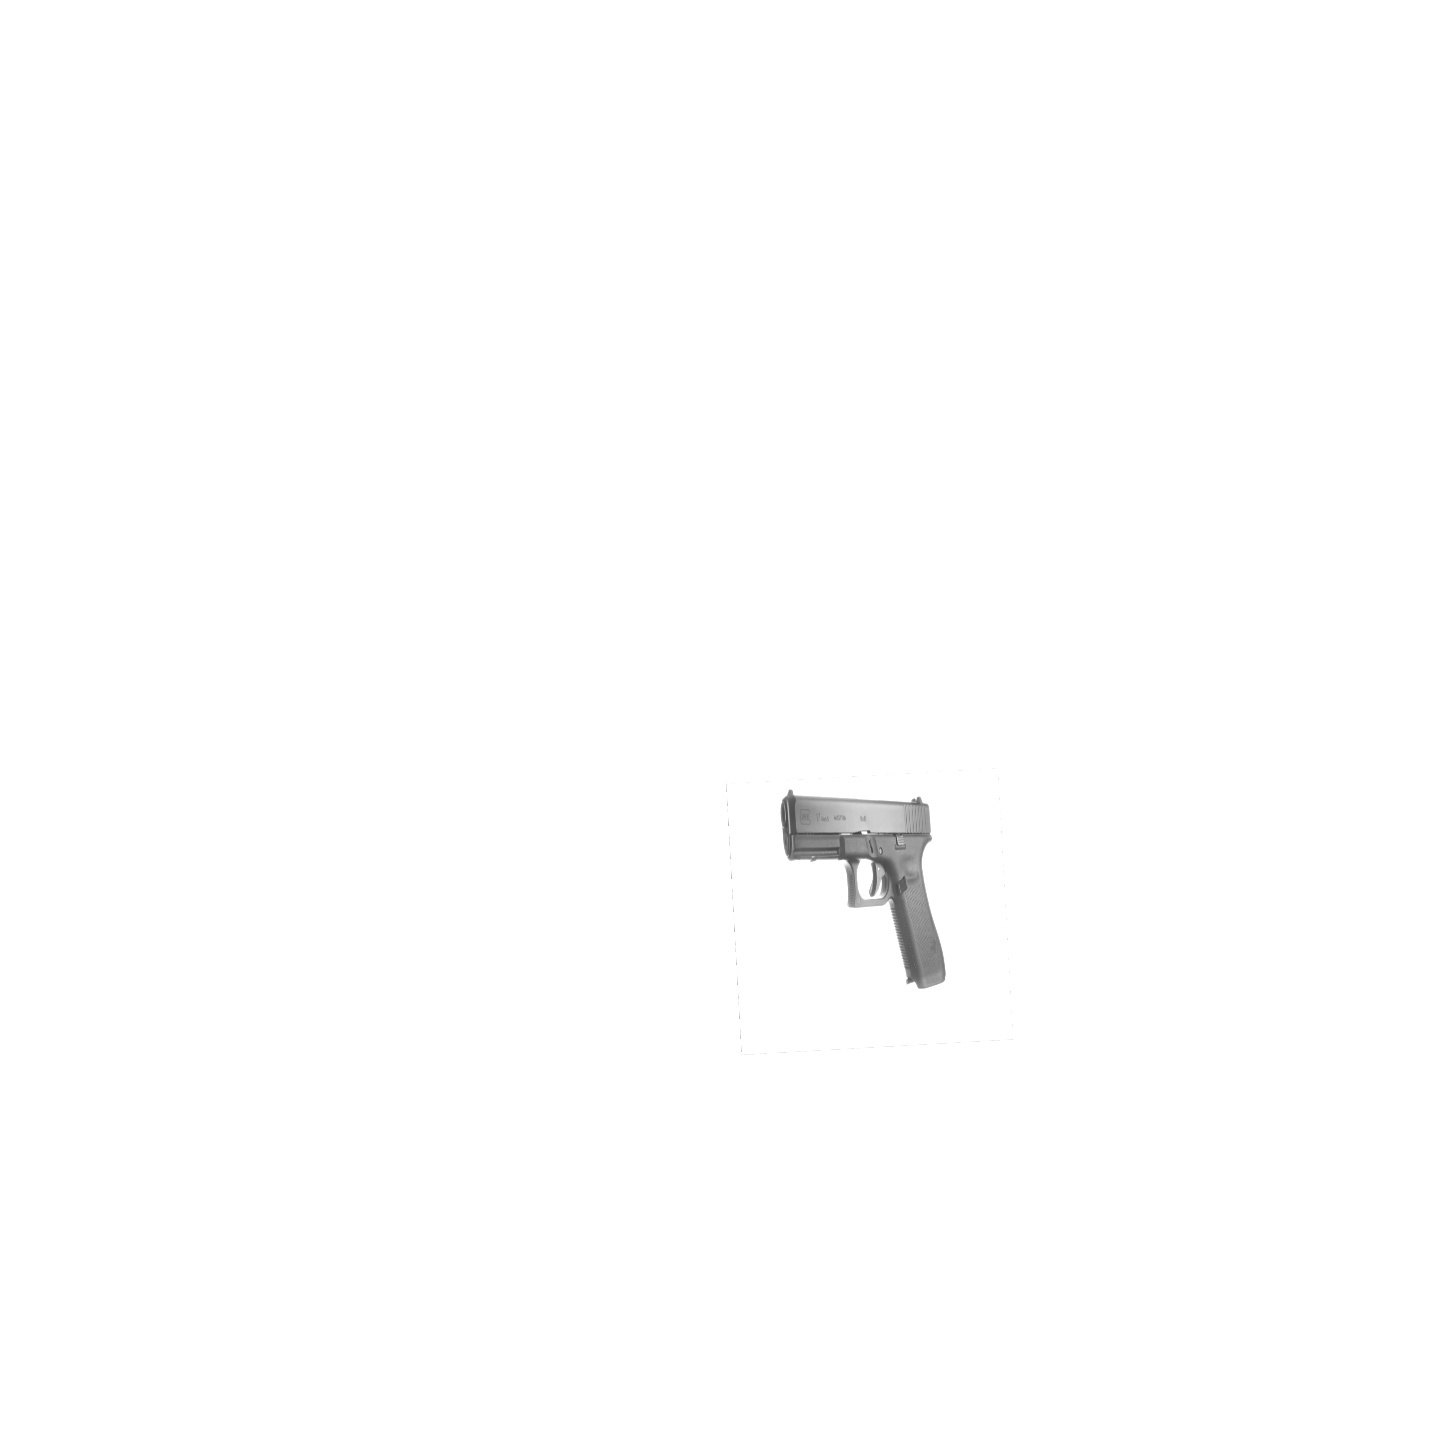gun: (780, 784, 960, 1003)
